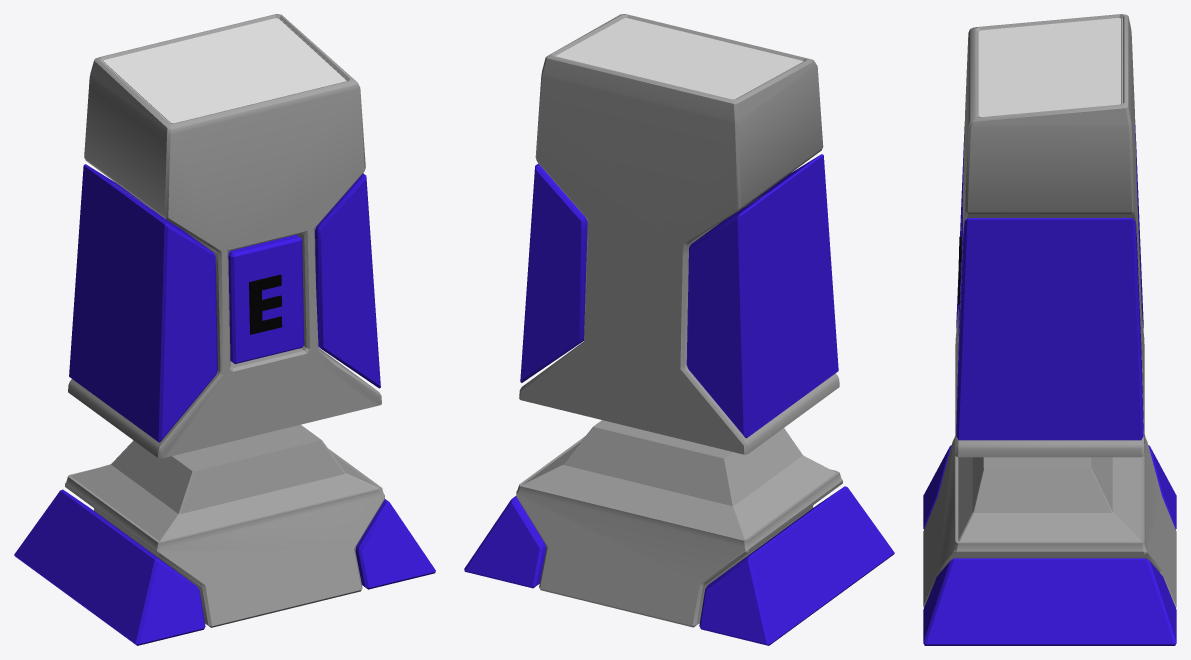
Rendered from broken_key_terminal.fbx.
The picture shows the model from 3 angles, left to right: view 1: azimuth 30°, elevation 25°; view 2: azimuth 150°, elevation 25°; view 3: azimuth 270°, elevation 25°; orthographic projection. The views are drawn at different scales.
Parts seen in each view (by area): view 1: Cube.001, Cube.015, Plane.001; view 2: Cube.001, Cube.015, Plane.001; view 3: Cube.001, Cube.015, Plane.001.
Part boxes in pixels (x1,y1,x2,y2): Cube.001: (68,14,381,458); Cube.015: (14,424,435,645); Plane.001: (102,18,347,123); Cube.001: (519,14,839,454); Cube.015: (464,420,894,645); Plane.001: (554,18,803,99); Cube.001: (955,14,1144,457); Cube.015: (923,434,1176,645); Plane.001: (978,18,1122,116).
Bounding box in the file's own units: 89.23 × 143 × 63.93.
